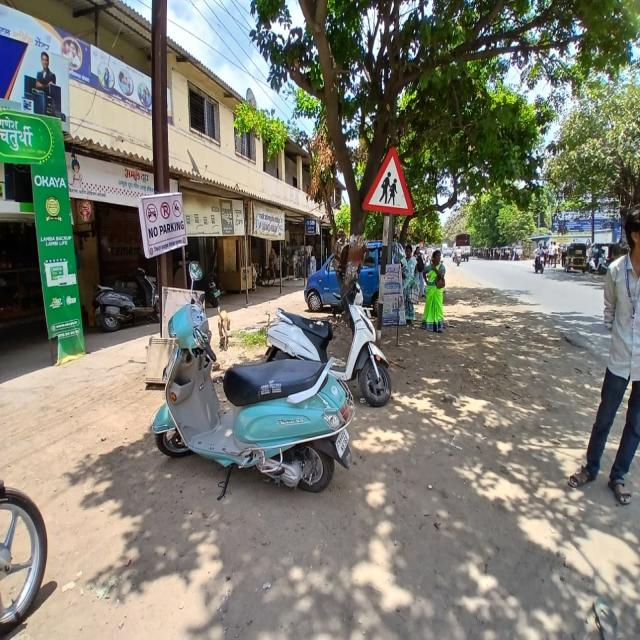illegalparking: (132, 183, 413, 482)
